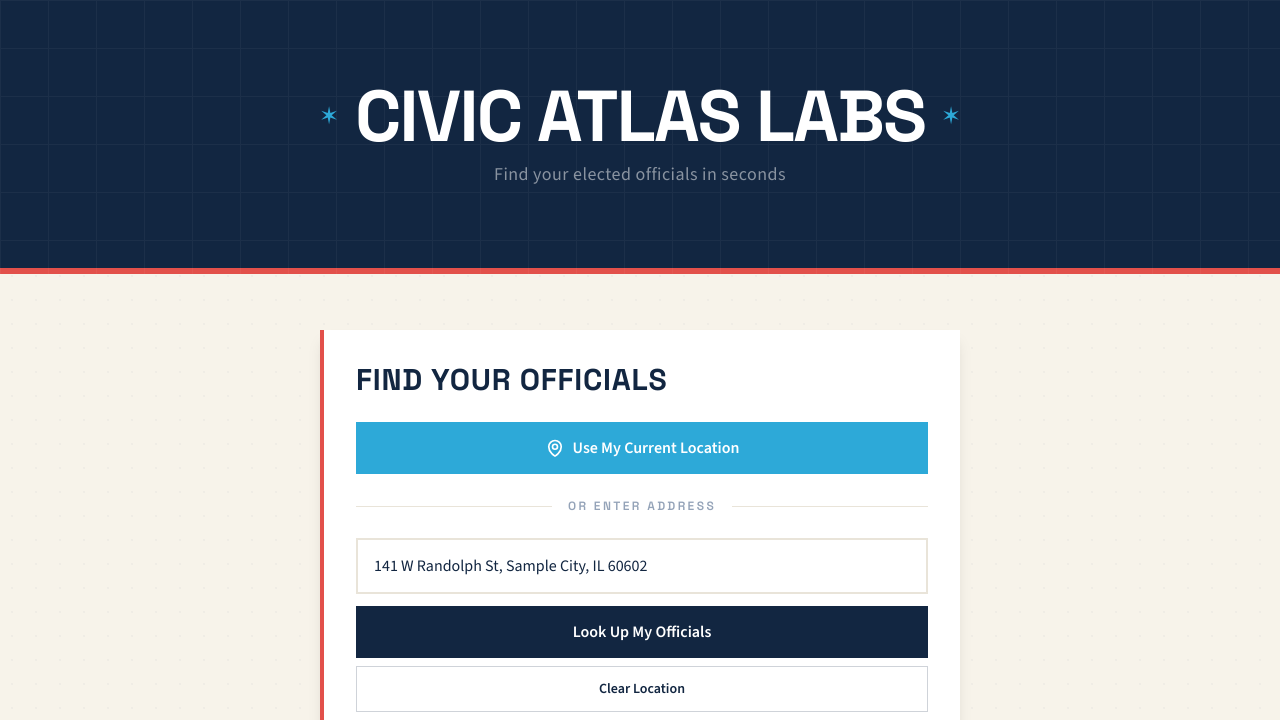
Shareable URL Behavior › clears url and resets shown location details when Clear Location is clicked
Click the button "Clear Location" at (642, 689), box [356,666,928,712]
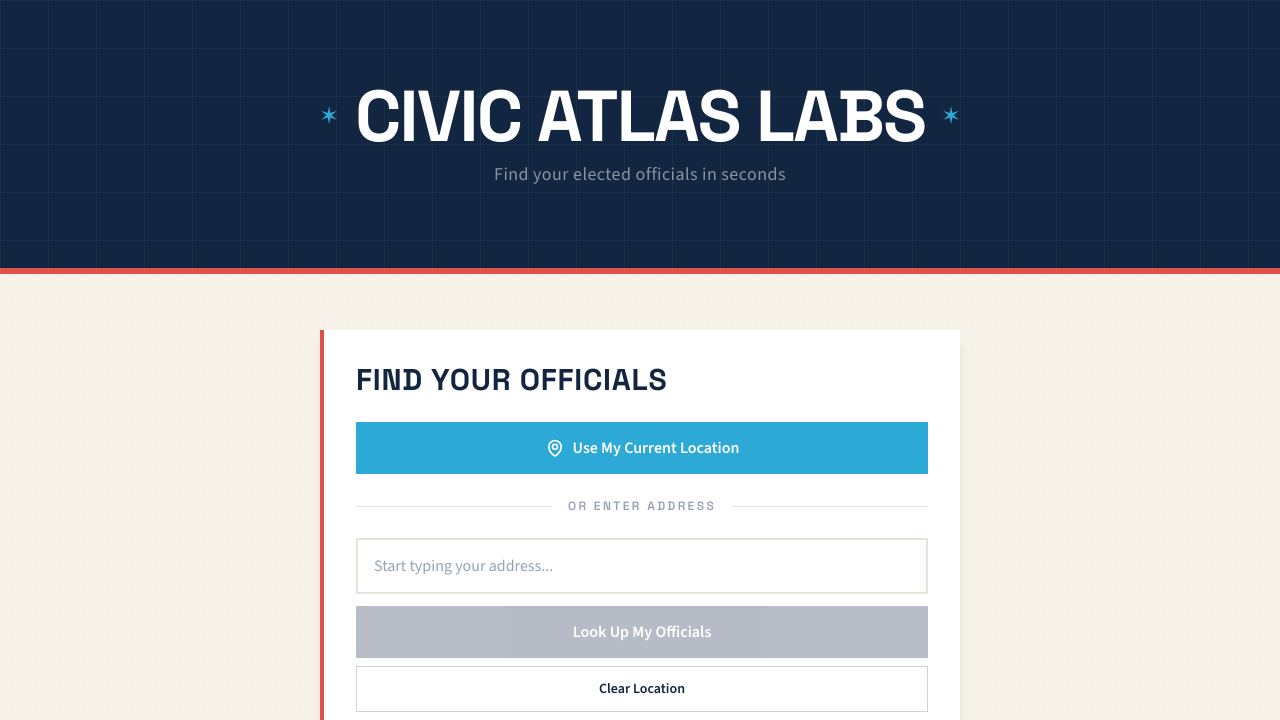
Check: the field with placeholder "Start typing your address..." is empty, box [356,538,928,594]
